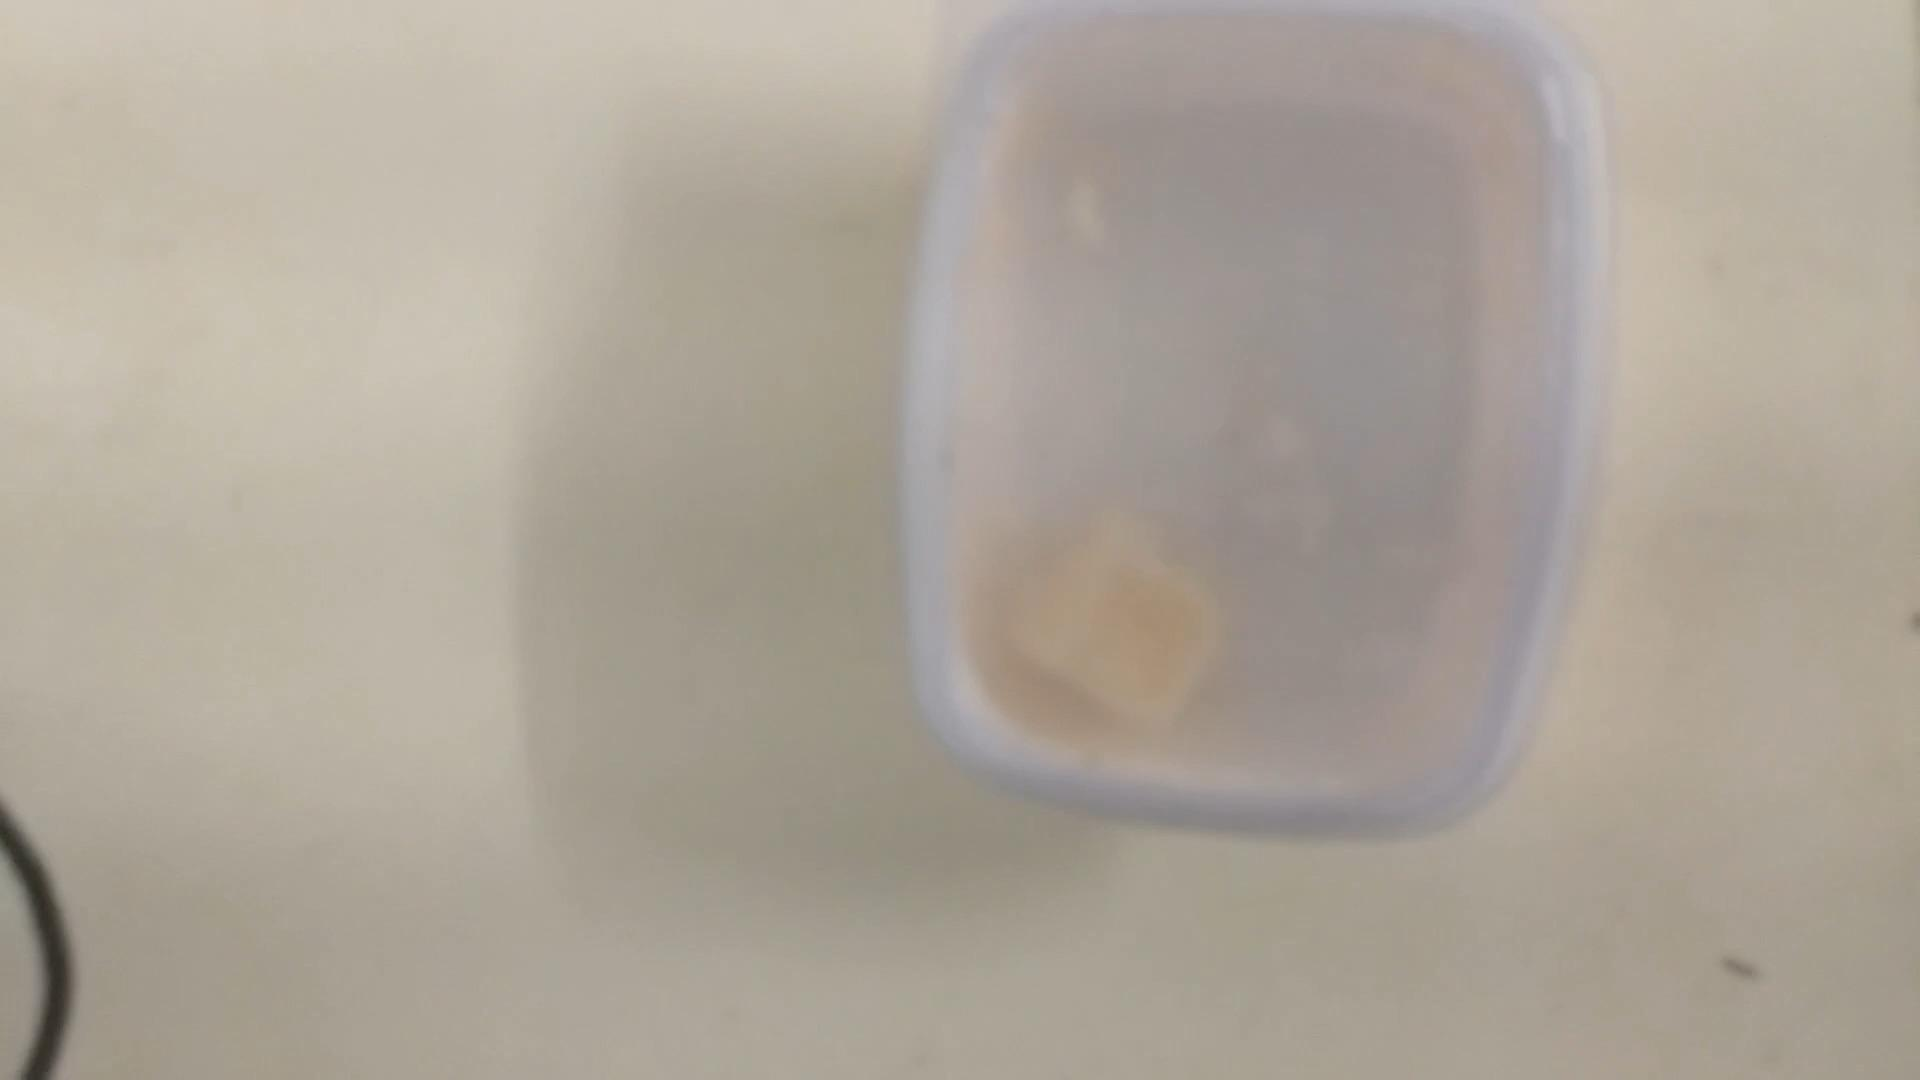butter: (902, 0, 1600, 836)
